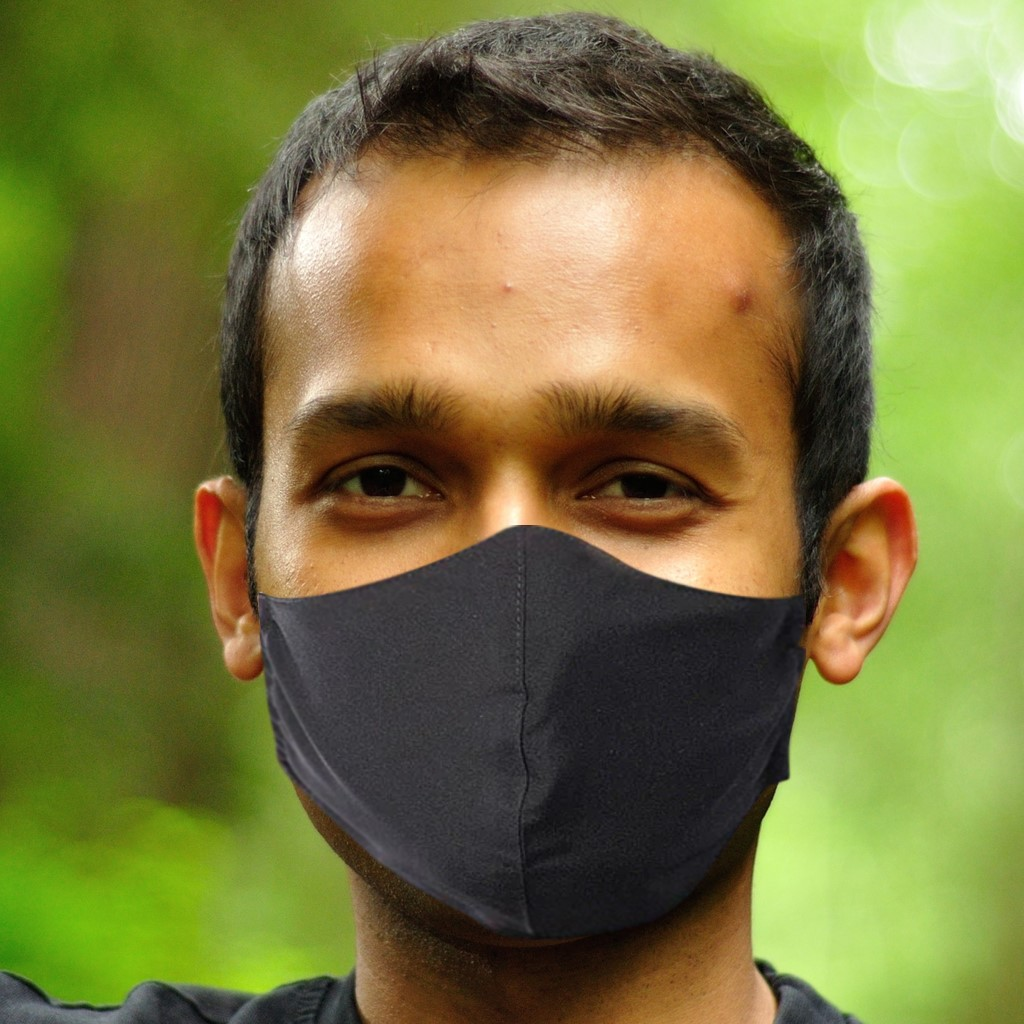con_mascara: (247, 127, 819, 947)
